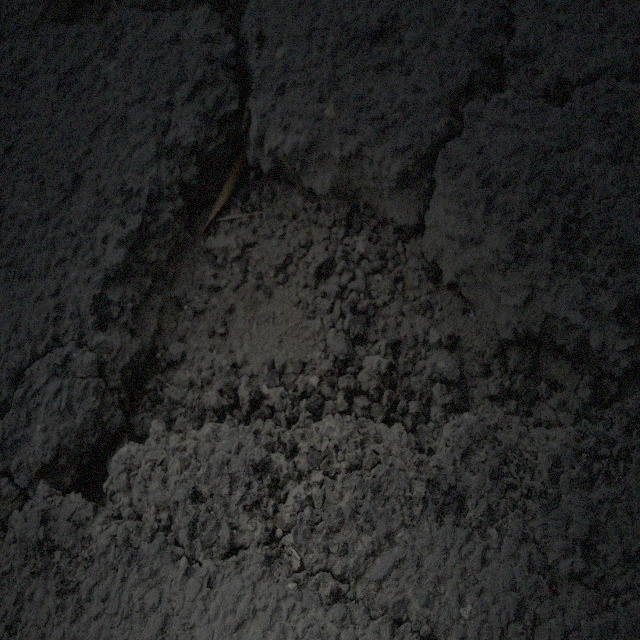pothole: (121, 94, 545, 489)
